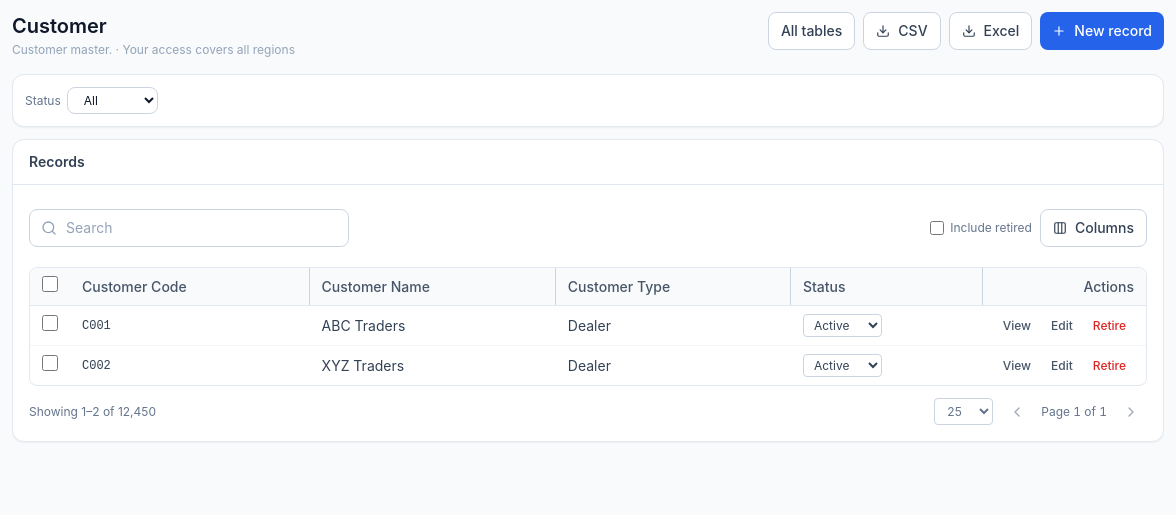
Test case: MasterDataPage › selecting the header checkbox selects the page, not the whole table
The width and height of the screenshot is (1176, 515).
Expected: the text "ABC Traders" is shown, [310,306,556,346]
Click the checkbox named "Select all rows on this page" at {"x": 50, "y": 284}, box [42,276,58,292]
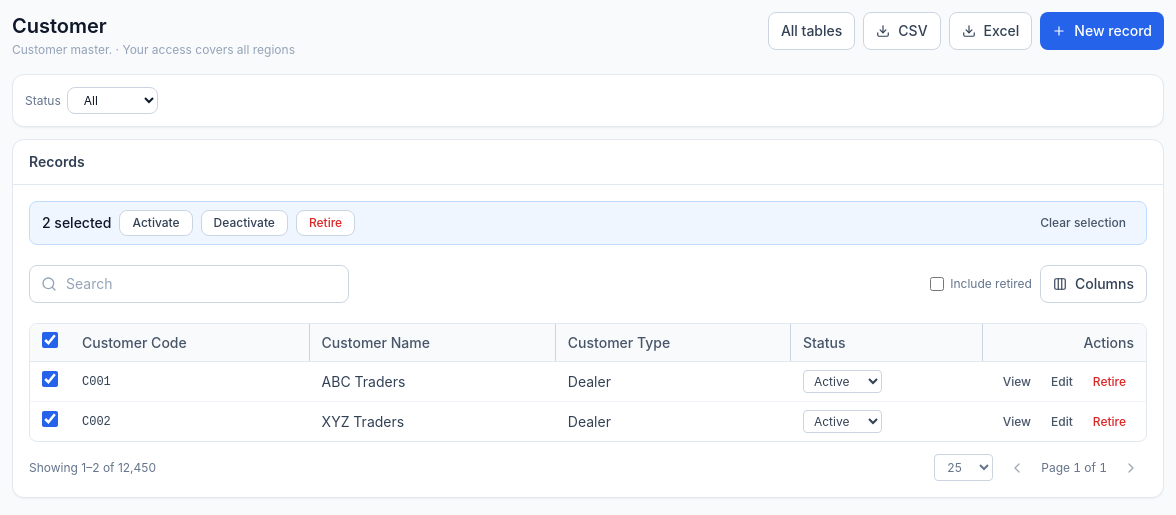
Result: the text "2 selected" is shown at [42,213,112,233]
